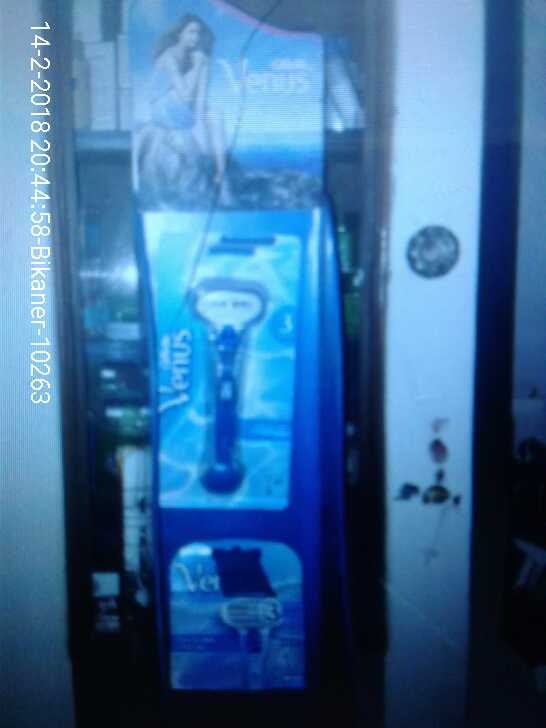venus: (151, 222, 296, 511), (171, 535, 314, 692)
